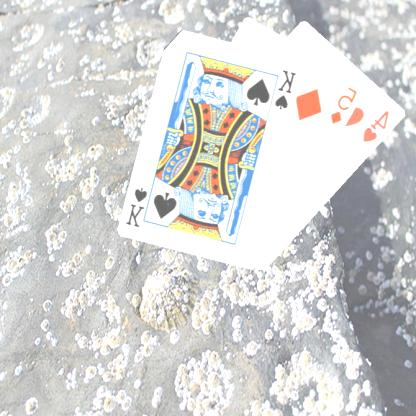4H: (362, 107, 393, 144)
5D: (330, 84, 361, 125)
KS: (126, 183, 156, 228), (274, 67, 300, 111)
